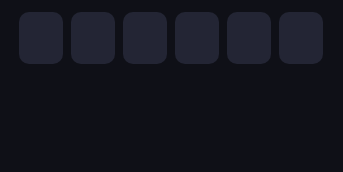
CodeInput › pasting a full code distributes it across all boxes and completes
Step 1. Click the field named "room code character" → click(41, 38), box top-left (19, 12), bottom-right (63, 64)
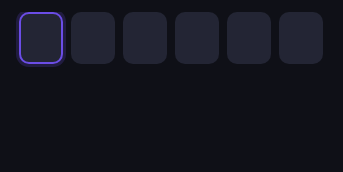
Step 2. Type keys "A5FB67"
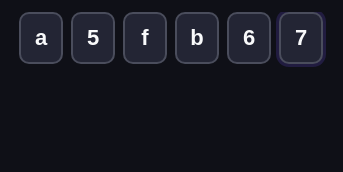
Now the field named "room code character" holds "a", box top-left (19, 12), bottom-right (63, 64)
Now the field named "room code character" holds "5", box top-left (71, 12), bottom-right (115, 64)
Now the field named "room code character" holds "f", box top-left (123, 12), bottom-right (167, 64)
